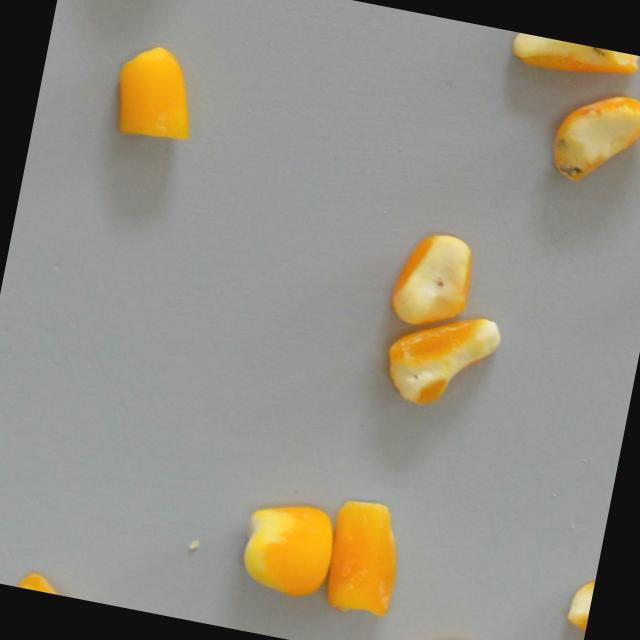estandar: (227, 469, 351, 623), (316, 484, 416, 634), (379, 619, 494, 640)
pelicula: (98, 29, 219, 160)
punto_negro: (376, 309, 512, 403), (542, 82, 640, 195), (386, 225, 481, 333), (507, 31, 640, 85), (1, 565, 97, 602), (558, 570, 596, 640)
